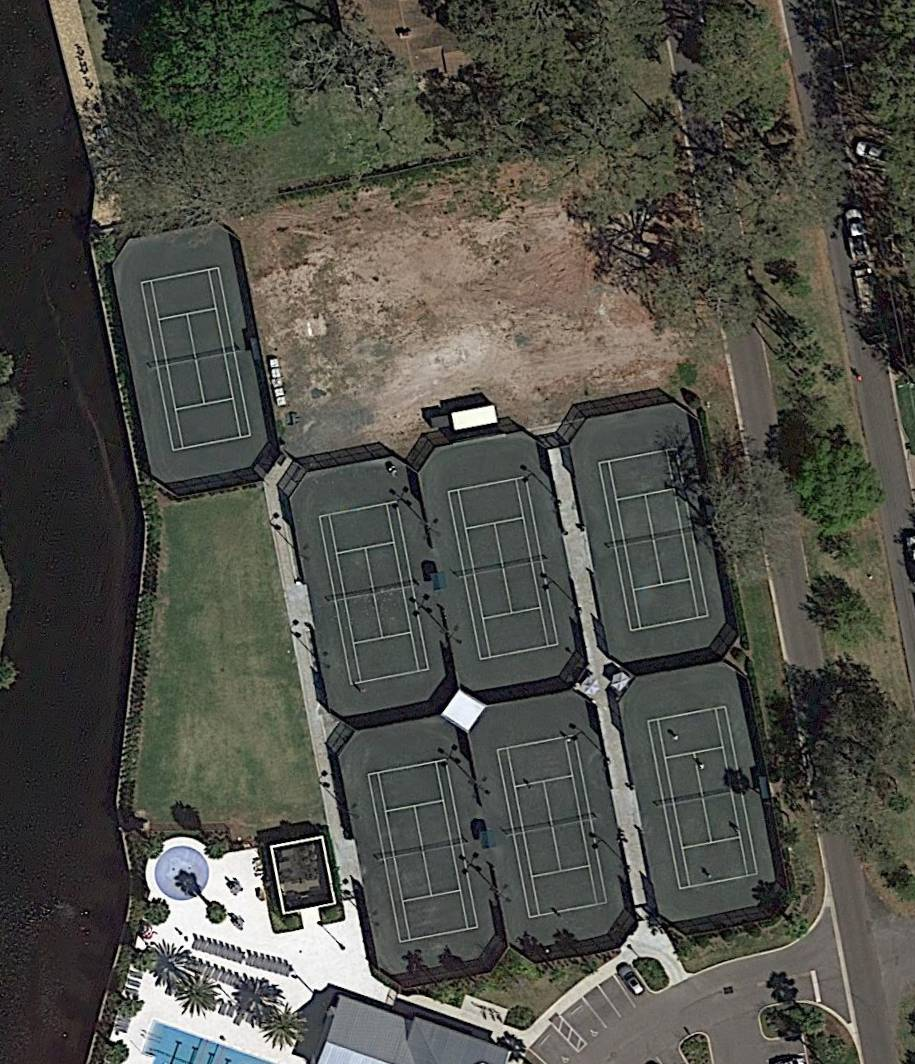small vehicle: (842, 206, 870, 259), (856, 139, 899, 167), (617, 964, 647, 1001)
tennis court: (496, 735, 609, 920), (318, 501, 431, 686), (140, 267, 253, 452), (598, 447, 710, 633), (447, 475, 559, 661), (647, 706, 760, 890), (367, 759, 479, 943)
